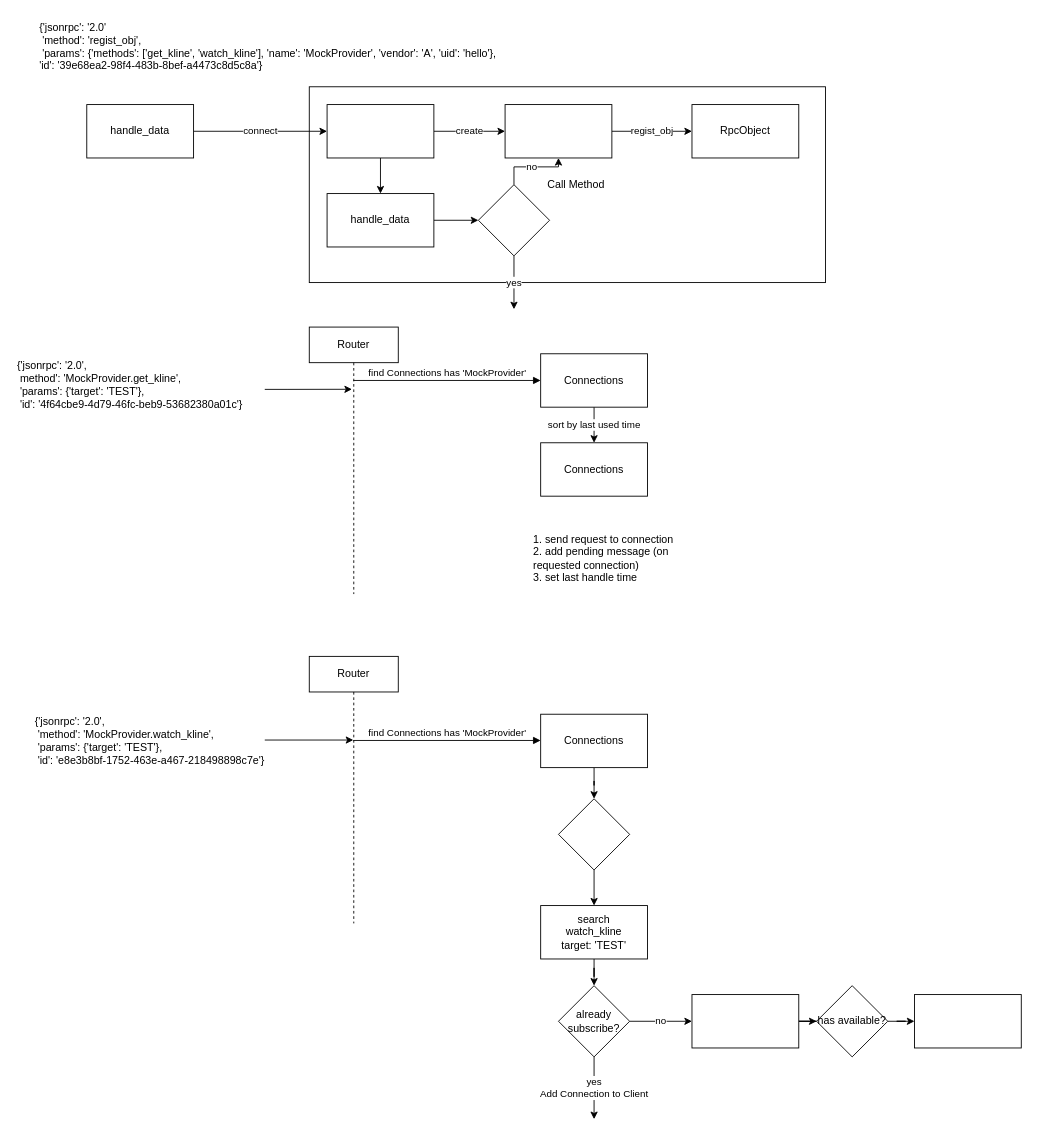
The diagram is 1037 pixels wide and 1142 high, and some of its shapes have lost their labels. The centre of each missing label's shape, as x and y in pixels:
"find available connection" goes at (745,1021).
"is_watch?" goes at (594,834).
"object?" goes at (513,220).
"RpcConnection" goes at (558,131).
"send watch" goes at (967,1021).
"websocket_handler" goes at (380,131).
